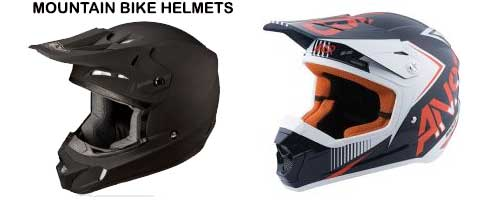with_helmet: (257, 9, 468, 194), (23, 18, 228, 196)
